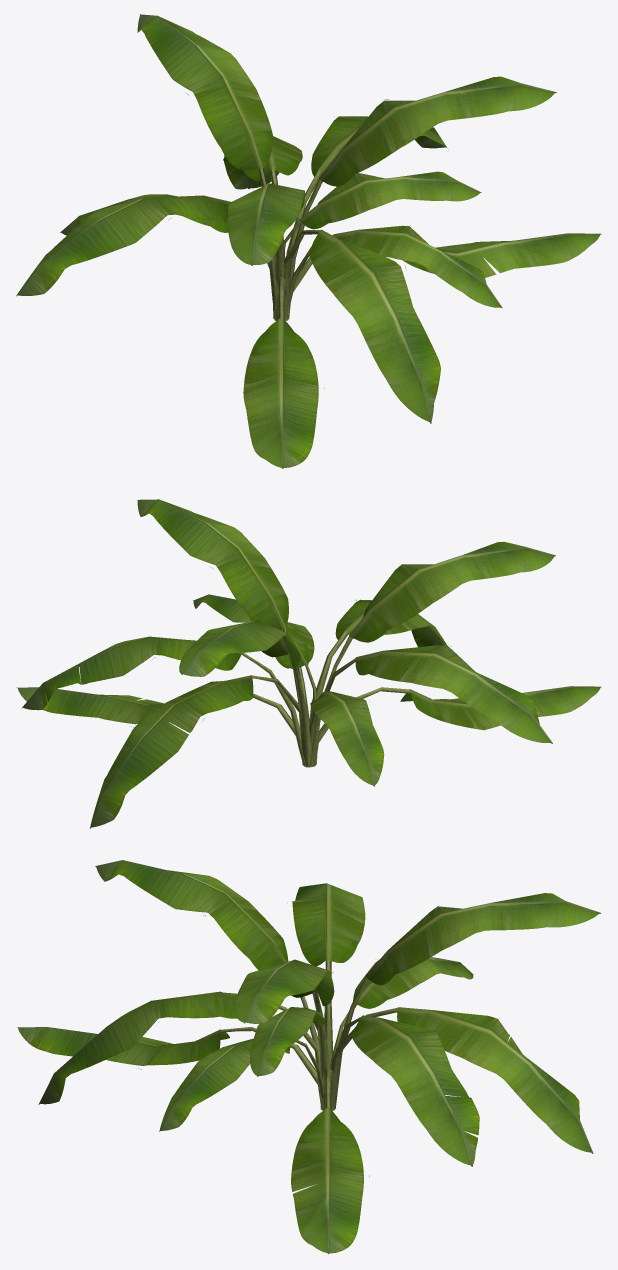
Rendered from BananaPlant02.dae.
3 views of the same model, one above another, from view 1: azimuth 30°, elevation 25°; view 2: azimuth 150°, elevation 25°; view 3: azimuth 270°, elevation 25° (orthographic). The views are drawn at different scales.
Visible parts, largest first — view 1: polySurface48; view 2: polySurface48; view 3: polySurface48.
Part boxes in pixels (<box>): polySurface48: <box>16,14,601,468</box>; polySurface48: <box>16,499,601,828</box>; polySurface48: <box>17,860,600,1254</box>.
Size of the model in its own units: 4.28 by 1.49 by 3.81.
Materials: 1 (1 with a texture image).
